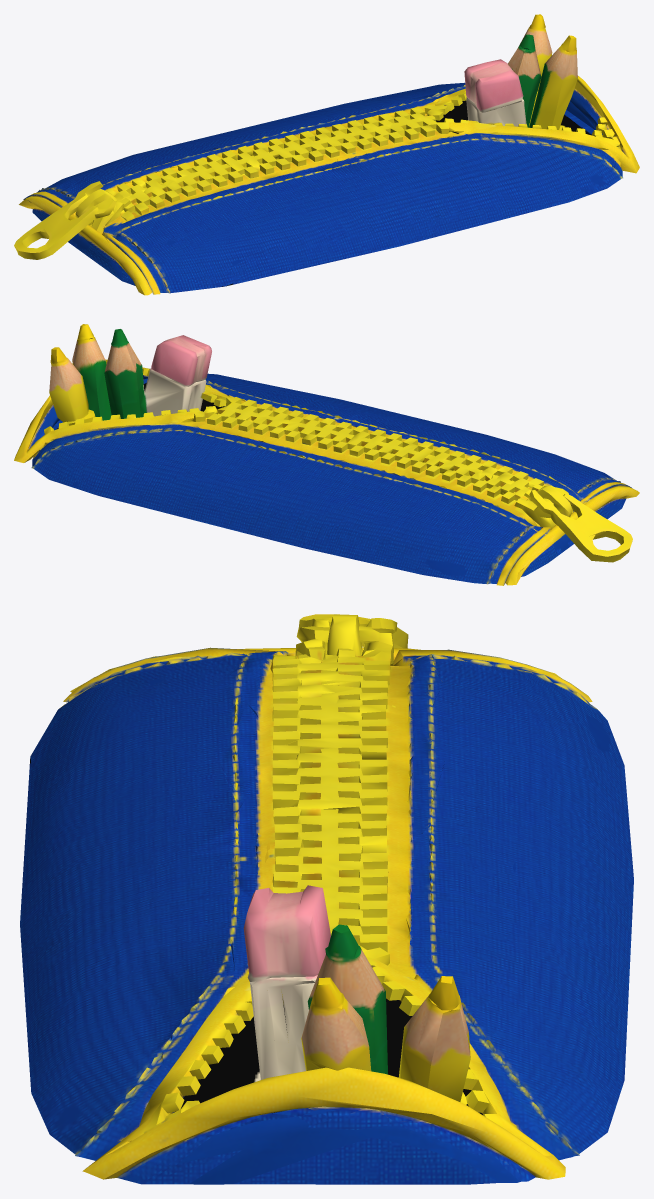
File: 8-topper.fbx
3 renders of one model, top to bottom at view 1: azimuth 30°, elevation 25°; view 2: azimuth 150°, elevation 25°; view 3: azimuth 270°, elevation 25°, orthographic. The views are drawn at different scales.
Visible parts, largest first — view 1: topper; view 2: topper; view 3: topper.
Part boxes in pixels (left/top/right/bottom): topper: left=14, top=14, right=639, bottom=295; topper: left=14, top=324, right=639, bottom=585; topper: left=20, top=614, right=633, bottom=1184.
Bounding box in the file's own units: 14574 × 2500 × 6849.
Materials: 1 (1 with a texture image).
